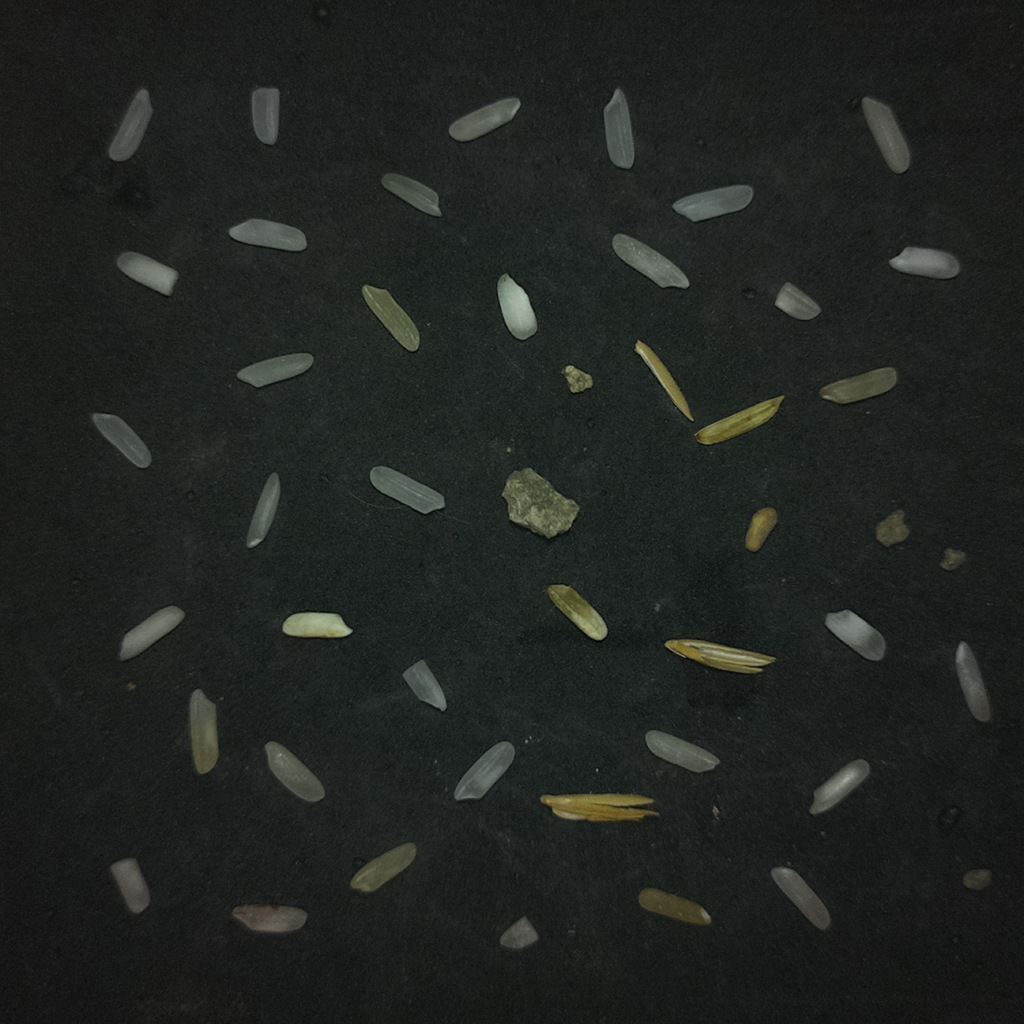broken: (645, 730, 719, 772), (381, 172, 441, 217), (109, 858, 149, 913), (232, 904, 307, 933), (403, 660, 446, 710), (774, 283, 820, 320), (251, 87, 279, 144), (499, 916, 538, 949), (962, 869, 992, 890)
chalky: (118, 605, 184, 660), (810, 759, 869, 814), (825, 609, 885, 660), (116, 251, 178, 295), (497, 273, 537, 339), (888, 246, 959, 279), (282, 611, 352, 638)
discolored: (361, 284, 419, 351), (371, 466, 444, 513), (350, 842, 417, 893), (547, 584, 607, 640), (819, 367, 897, 404), (638, 888, 711, 925), (745, 508, 777, 552)
foreign: (502, 467, 579, 537), (876, 510, 909, 546), (561, 365, 593, 393), (940, 548, 966, 570)
paddy: (635, 340, 693, 421), (695, 395, 783, 444), (664, 639, 775, 673), (540, 793, 658, 822)
whole: (612, 233, 689, 288), (264, 741, 324, 802), (771, 867, 830, 929), (861, 96, 908, 172), (454, 741, 514, 800), (108, 88, 152, 161), (92, 413, 151, 467), (449, 97, 520, 141), (955, 641, 990, 722), (673, 186, 753, 221), (236, 352, 313, 387), (246, 472, 280, 548), (228, 218, 306, 251), (189, 689, 218, 774), (604, 87, 634, 168)
